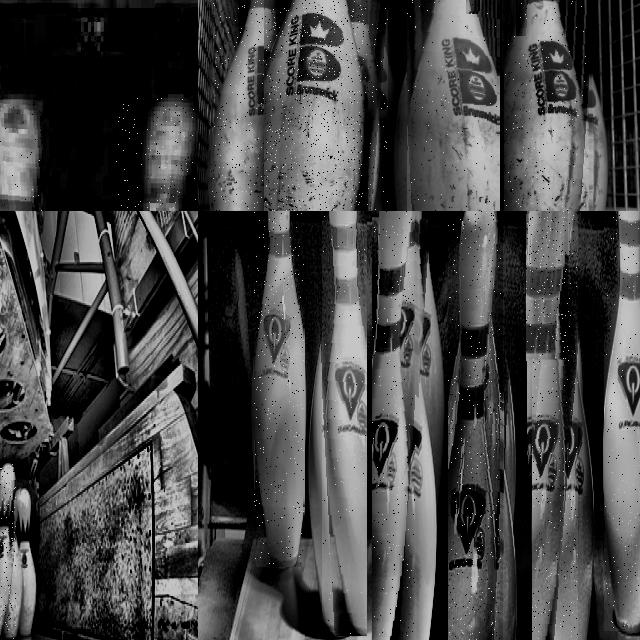bowling-pins: (449, 211, 501, 640), (265, 0, 368, 211), (407, 0, 498, 211), (533, 211, 577, 640), (322, 211, 366, 634), (373, 211, 416, 640), (504, 0, 590, 211), (255, 211, 304, 567), (211, 0, 290, 211), (604, 211, 640, 630), (417, 211, 444, 499), (351, 0, 385, 211), (147, 99, 197, 211), (498, 317, 516, 517), (18, 488, 38, 636), (0, 464, 16, 640), (457, 346, 471, 493), (526, 211, 535, 359), (521, 0, 529, 35)
